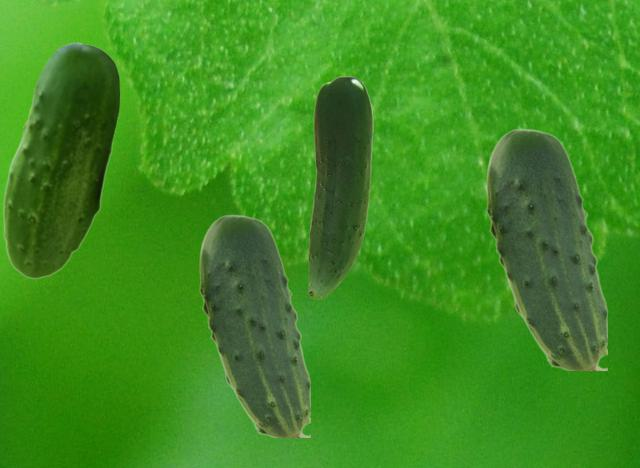cucumber: (486, 128, 606, 369), (3, 42, 119, 278), (199, 214, 309, 436), (308, 76, 372, 298)
